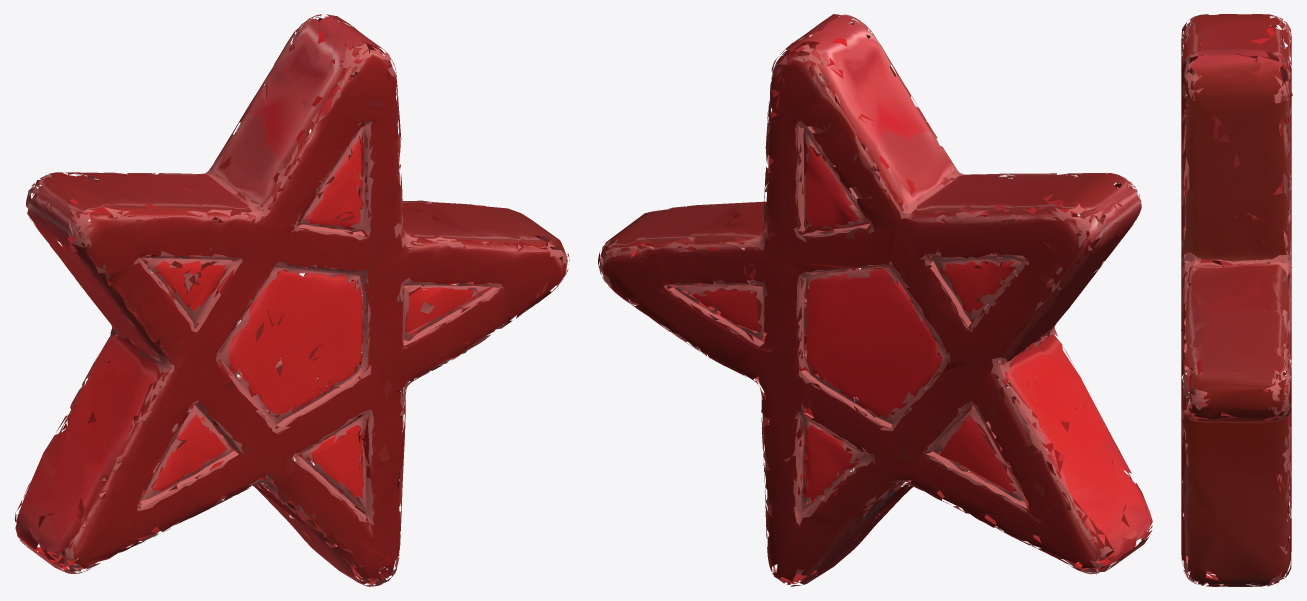
Rendered from darkmark.glb.
3 views of the same model, side by side, from view 1: azimuth 30°, elevation 25°; view 2: azimuth 150°, elevation 25°; view 3: azimuth 270°, elevation 25° (orthographic). The views are drawn at different scales.
Bounding box in the file's own units: 0.0501 × 0.0504 × 0.00977.
Materials: 1 (1 with a texture image).
